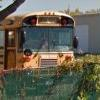Bus: (8, 6, 82, 78)
